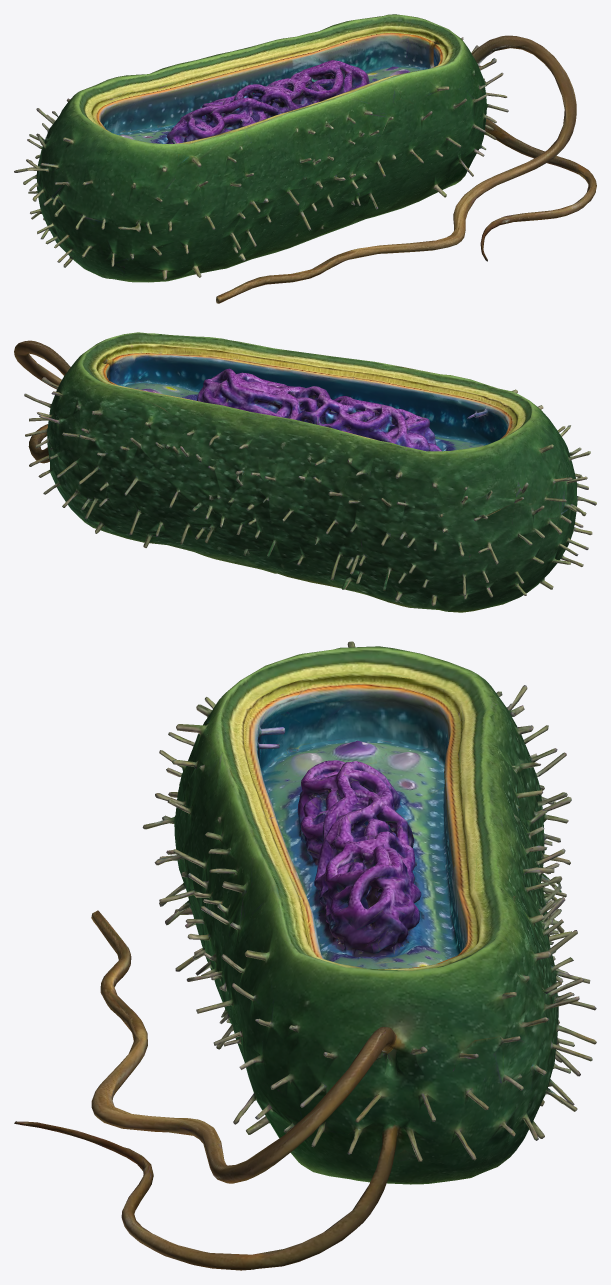
Rendered from bacteria-cell-v2.glb.
3 views of the same model, one above another, from view 1: azimuth 30°, elevation 25°; view 2: azimuth 150°, elevation 25°; view 3: azimuth 270°, elevation 25° (orthographic). The views are drawn at different scales.
Parts seen in each view (by area): view 1: Mesh_0; view 2: Mesh_0; view 3: Mesh_0.
Part boxes in pixels (bbox=[...]): Mesh_0: bbox=[14, 14, 596, 303]; Mesh_0: bbox=[14, 332, 596, 612]; Mesh_0: bbox=[14, 641, 596, 1270].
Bounding box in the file's own units: 1.91 × 0.5226 × 1.11.
Materials: 1 (1 with a texture image).
